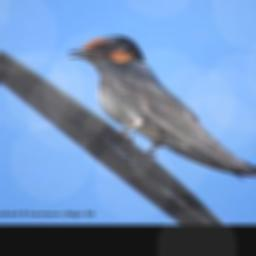Swallow: (68, 34, 256, 176)
